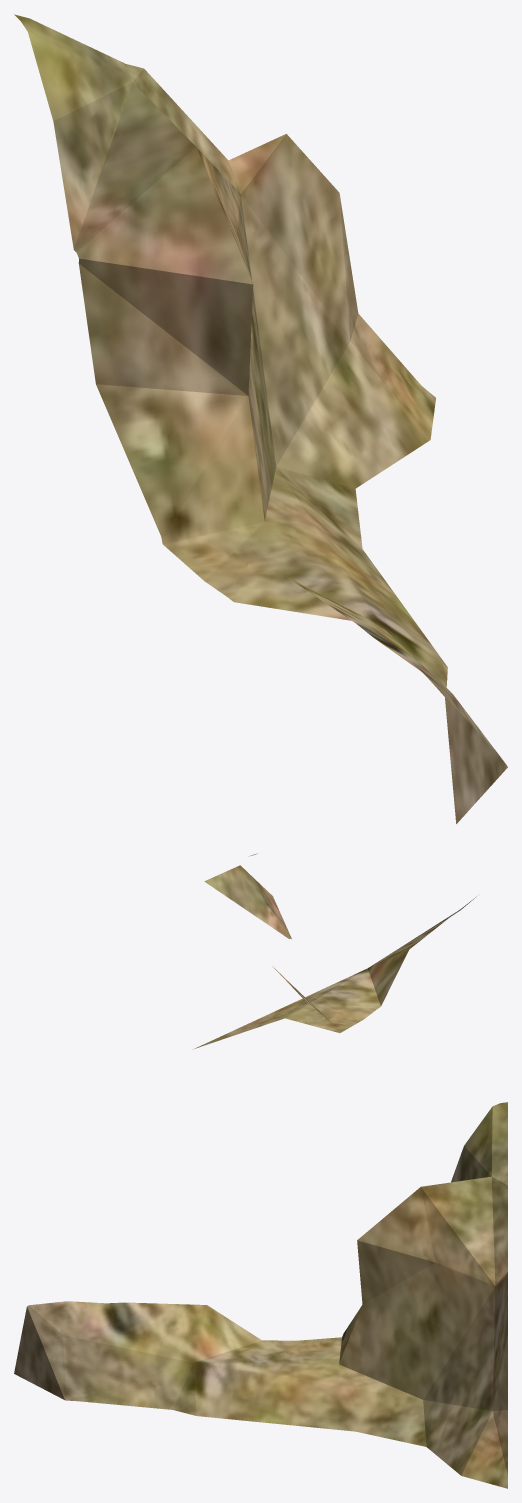
The picture shows the model from 3 angles, top to bottom: view 1: azimuth 30°, elevation 25°; view 2: azimuth 150°, elevation 25°; view 3: azimuth 270°, elevation 25°; orthographic projection. The views are drawn at different scales.
Bounding box in the file's own units: 1.19 × 1.31 × 2.15.
Materials: 1 (1 with a texture image).
